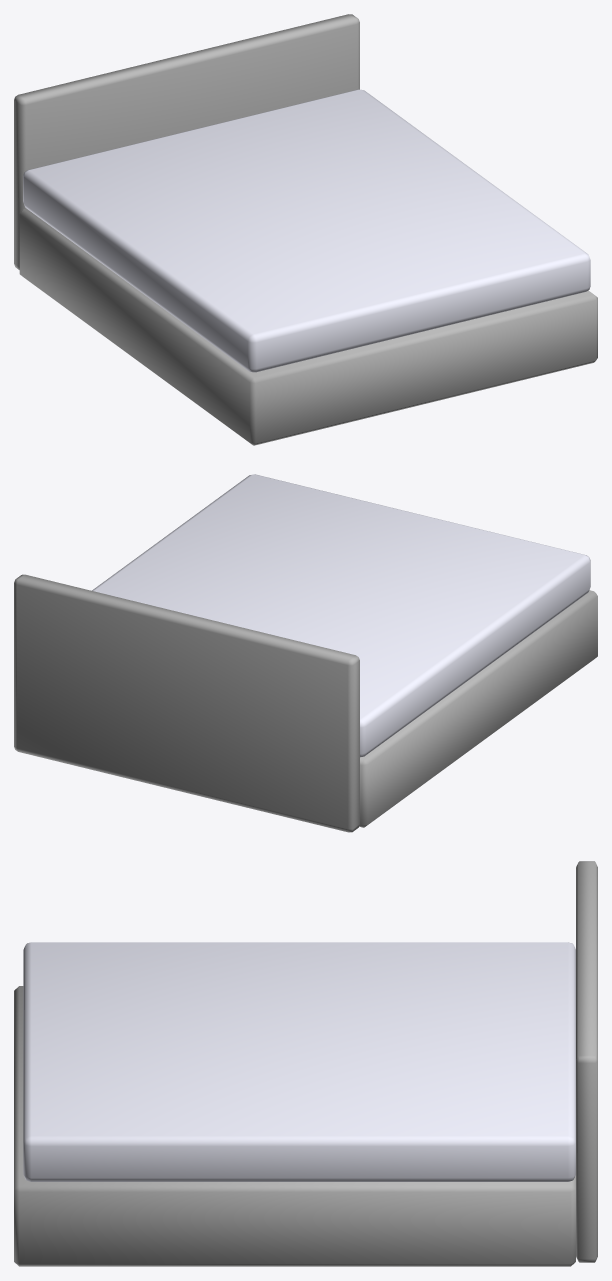
The model's file is Prop_Bed_10.fbx.
3 views of the same model, one above another, from view 1: azimuth 30°, elevation 25°; view 2: azimuth 150°, elevation 25°; view 3: azimuth 270°, elevation 25° (orthographic). The views are drawn at different scales.
Parts seen in each view (by area): view 1: Prop_Bed_10; view 2: Prop_Bed_10; view 3: Prop_Bed_10.
Part boxes in pixels (box(x1,y1,x2,y2)): Prop_Bed_10: box(14, 14, 597, 445); Prop_Bed_10: box(14, 474, 597, 832); Prop_Bed_10: box(14, 861, 597, 1266).
Bounding box in the file's own units: 180 × 85.85 × 218.
